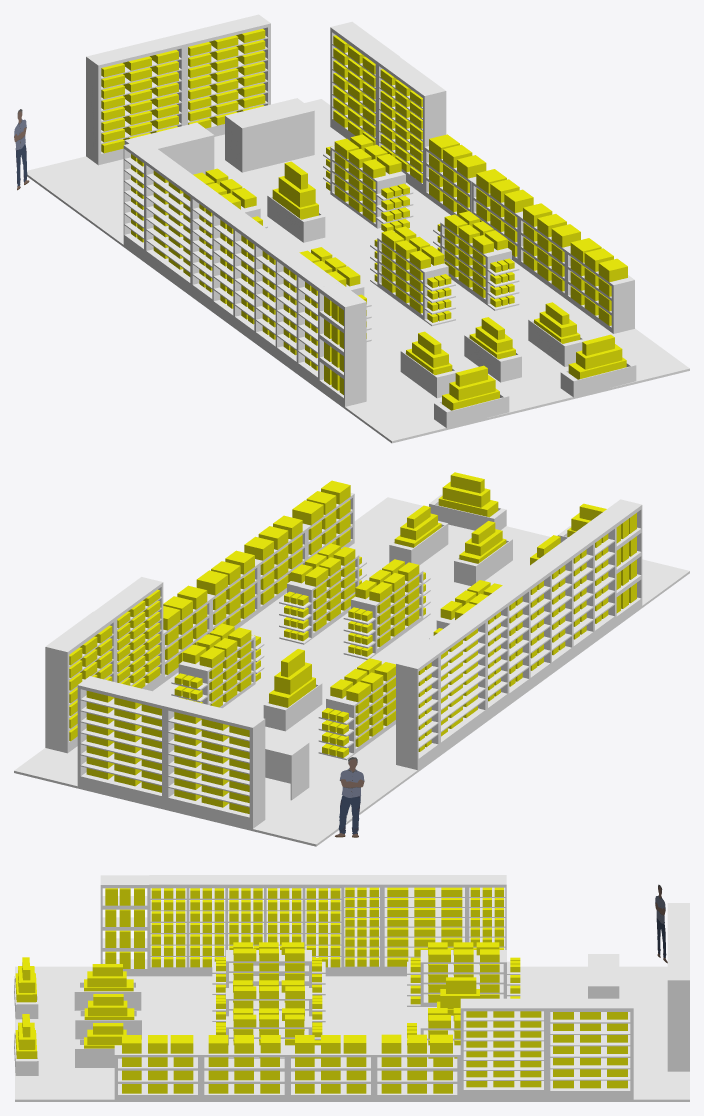
The model's file is farmacia_modelo.dae.
3 views of the same model, one above another, from view 1: azimuth 30°, elevation 25°; view 2: azimuth 150°, elevation 25°; view 3: azimuth 270°, elevation 25° (orthographic). The views are drawn at different scales.
Parts seen in each view (by area): view 1: LadoEscquerdo, areai1, LadoDireito, group_3, areai4, Componente_29, areai3, Componente_10, Componente_24, Componente_28, Componente_17, group_4 (+20 smaller); view 2: LadoEscquerdo, LadoDireito, Componente_29, areai3, Componente_23, Componente_28, areai1, Componente_18, areai4, Componente_17, Componente_24, SketchUp (+20 smaller); view 3: LadoEscquerdo, Componente_24 (×9), SketchUp (×4), LadoDireito, areai1, Componente_23 (×8), areai3, Componente_28, check-out_med, Componente_17, Componente_1 (×2), Componente_10 (+22 smaller).
Part boxes in pixels (bbox=[...]): LadoEscquerdo: bbox=[27, 156, 454, 443]; areai1: bbox=[366, 305, 627, 427]; LadoDireito: bbox=[304, 99, 689, 385]; group_3: bbox=[225, 98, 314, 172]; areai4: bbox=[228, 155, 382, 252]; Componente_29: bbox=[86, 35, 184, 165]; areai3: bbox=[310, 227, 494, 340]; Componente_10: bbox=[318, 283, 366, 406]; Componente_24: bbox=[377, 56, 446, 195]; Componente_28: bbox=[173, 14, 270, 136]; Componente_17: bbox=[144, 155, 212, 294]; group_4: bbox=[124, 122, 214, 174]; LadoEscquerdo: bbox=[252, 559, 689, 846]; LadoDireito: bbox=[14, 497, 422, 788]; Componente_29: bbox=[165, 697, 265, 828]; areai3: bbox=[260, 613, 440, 694]; Componente_23: bbox=[45, 611, 115, 753]; Componente_28: bbox=[77, 676, 177, 807]; areai1: bbox=[360, 524, 550, 616]; Componente_18: bbox=[396, 648, 439, 770]; areai4: bbox=[223, 679, 345, 787]; Componente_17: bbox=[418, 613, 486, 753]; Componente_24: bbox=[94, 577, 163, 691]; SketchUp: bbox=[163, 528, 306, 682]; LadoEscquerdo: bbox=[15, 966, 667, 994]; Componente_24 (×9): bbox=[460, 998, 546, 1099]; SketchUp (×4): bbox=[201, 1045, 460, 1099]; LadoDireito: bbox=[15, 1071, 689, 1101]; areai1: bbox=[15, 994, 212, 1071]; Componente_23 (×8): bbox=[547, 998, 633, 1099]; areai3: bbox=[325, 994, 406, 1071]; Componente_28: bbox=[667, 941, 689, 1071]; check-out_med: bbox=[619, 994, 667, 1071]; Componente_17: bbox=[381, 875, 467, 976]; Componente_1 (×2): bbox=[114, 1045, 201, 1099]; Componente_10: bbox=[100, 875, 149, 976].
Bounding box in the file's own units: 304 × 594 × 90.55.
